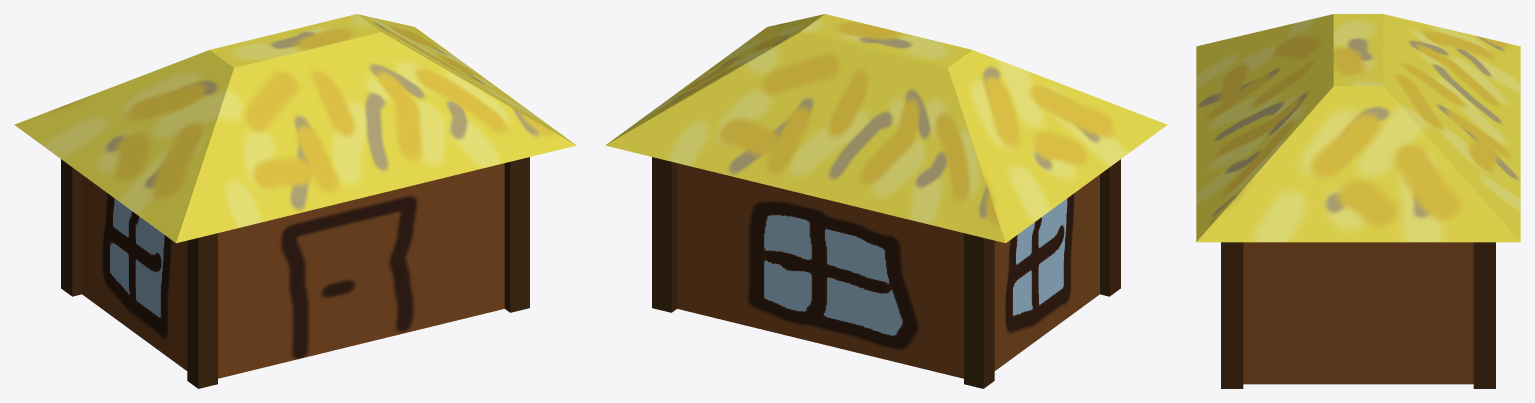
File: house.glb
3 views of the same model, side by side, from view 1: azimuth 30°, elevation 25°; view 2: azimuth 150°, elevation 25°; view 3: azimuth 270°, elevation 25° (orthographic).
Visible parts, largest first — view 1: House; view 2: House; view 3: House.
Part boxes in pixels (bbox=[...]): House: bbox=[14, 14, 576, 388]; House: bbox=[605, 14, 1167, 388]; House: bbox=[1196, 14, 1520, 388].
Size of the model in its own units: 5.14 by 3.15 by 3.6.
Materials: 1 (1 with a texture image).
